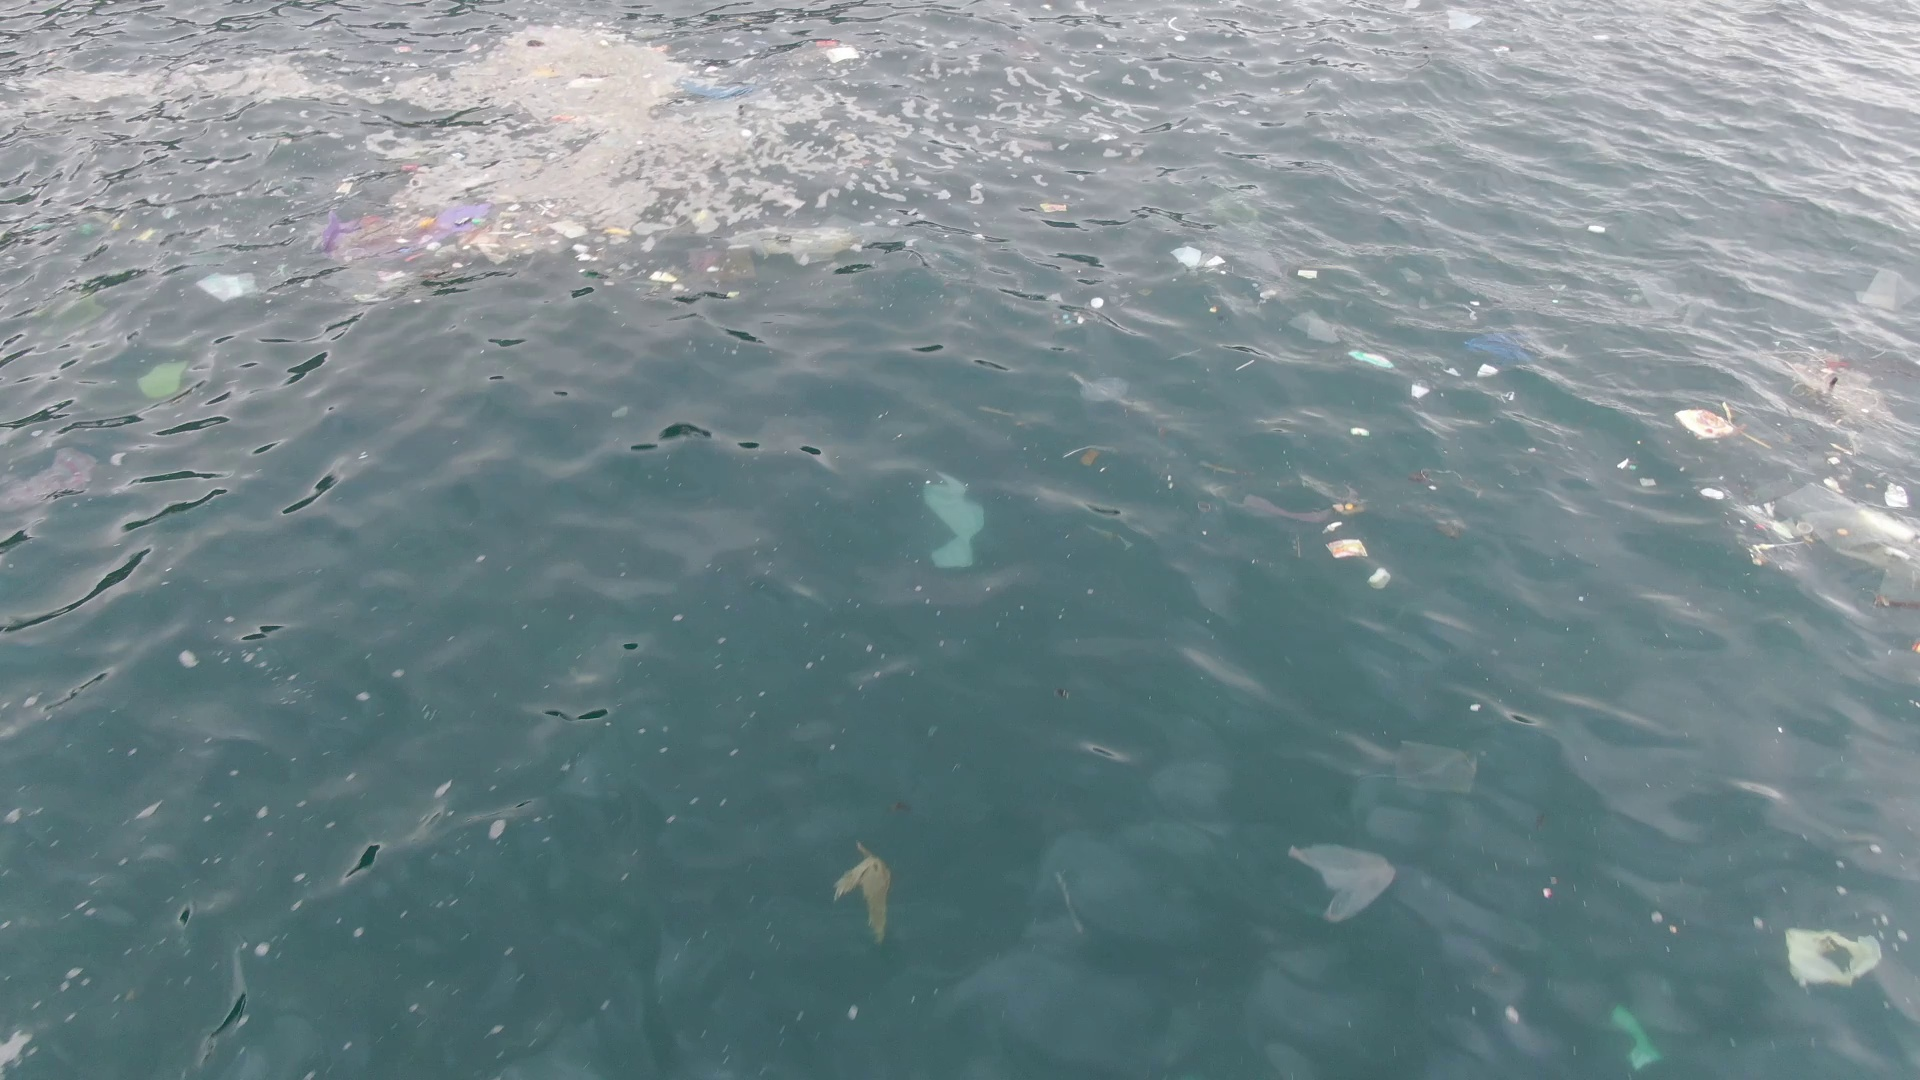garbage: (330, 152, 630, 284), (1774, 339, 1894, 427), (1284, 840, 1396, 916), (922, 473, 989, 568), (835, 843, 893, 951), (727, 220, 866, 265), (1, 443, 100, 506), (1784, 927, 1880, 988), (1743, 498, 1815, 564), (1396, 740, 1476, 796), (1244, 485, 1366, 521), (1609, 1004, 1663, 1071), (1669, 400, 1741, 444), (136, 359, 189, 406), (196, 266, 258, 306), (1411, 502, 1474, 539), (1317, 520, 1371, 560), (676, 76, 756, 103), (1465, 334, 1532, 364), (1408, 464, 1480, 492), (1288, 309, 1340, 344), (1064, 442, 1118, 472), (1611, 456, 1662, 487), (1168, 243, 1222, 270), (1081, 376, 1131, 402), (1441, 7, 1489, 32), (1346, 347, 1395, 369), (816, 38, 858, 62), (647, 269, 684, 291), (1873, 592, 1920, 609), (1884, 483, 1913, 510), (1367, 566, 1393, 588), (1054, 310, 1088, 326), (567, 75, 603, 90), (1697, 485, 1727, 501), (545, 112, 587, 123), (1038, 200, 1065, 214), (1476, 363, 1501, 377), (527, 67, 560, 78), (1582, 222, 1607, 235), (1410, 382, 1429, 397), (1298, 266, 1317, 280), (1349, 425, 1370, 436), (1091, 294, 1105, 309), (1908, 636, 1920, 651), (397, 44, 413, 51)
